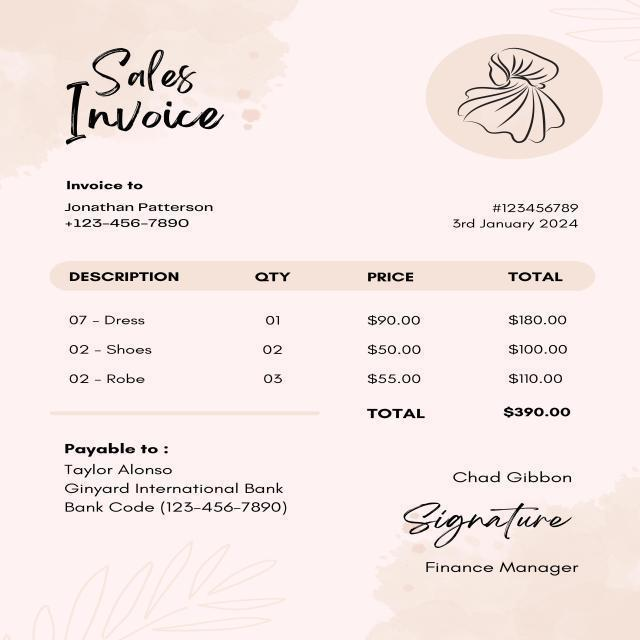ROI: (57, 259, 579, 391), (394, 462, 599, 585), (56, 434, 294, 523), (58, 42, 236, 151), (58, 172, 224, 236), (447, 195, 585, 240), (360, 398, 576, 426)
